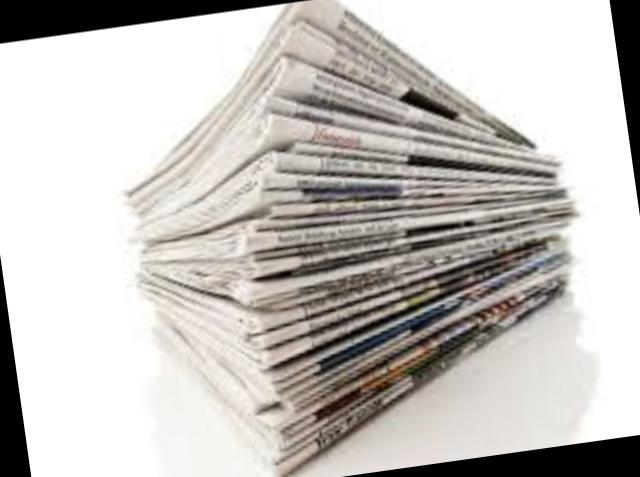cardboard paper: (125, 0, 568, 473)
